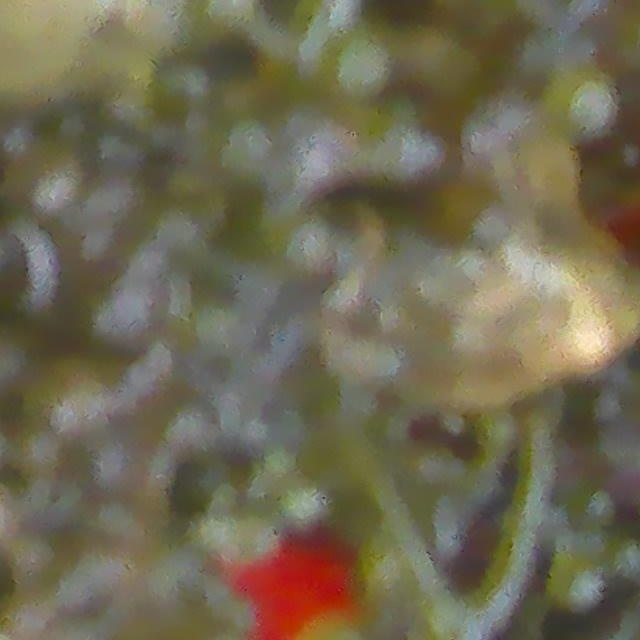SeaGrape: (545, 66, 618, 142)
